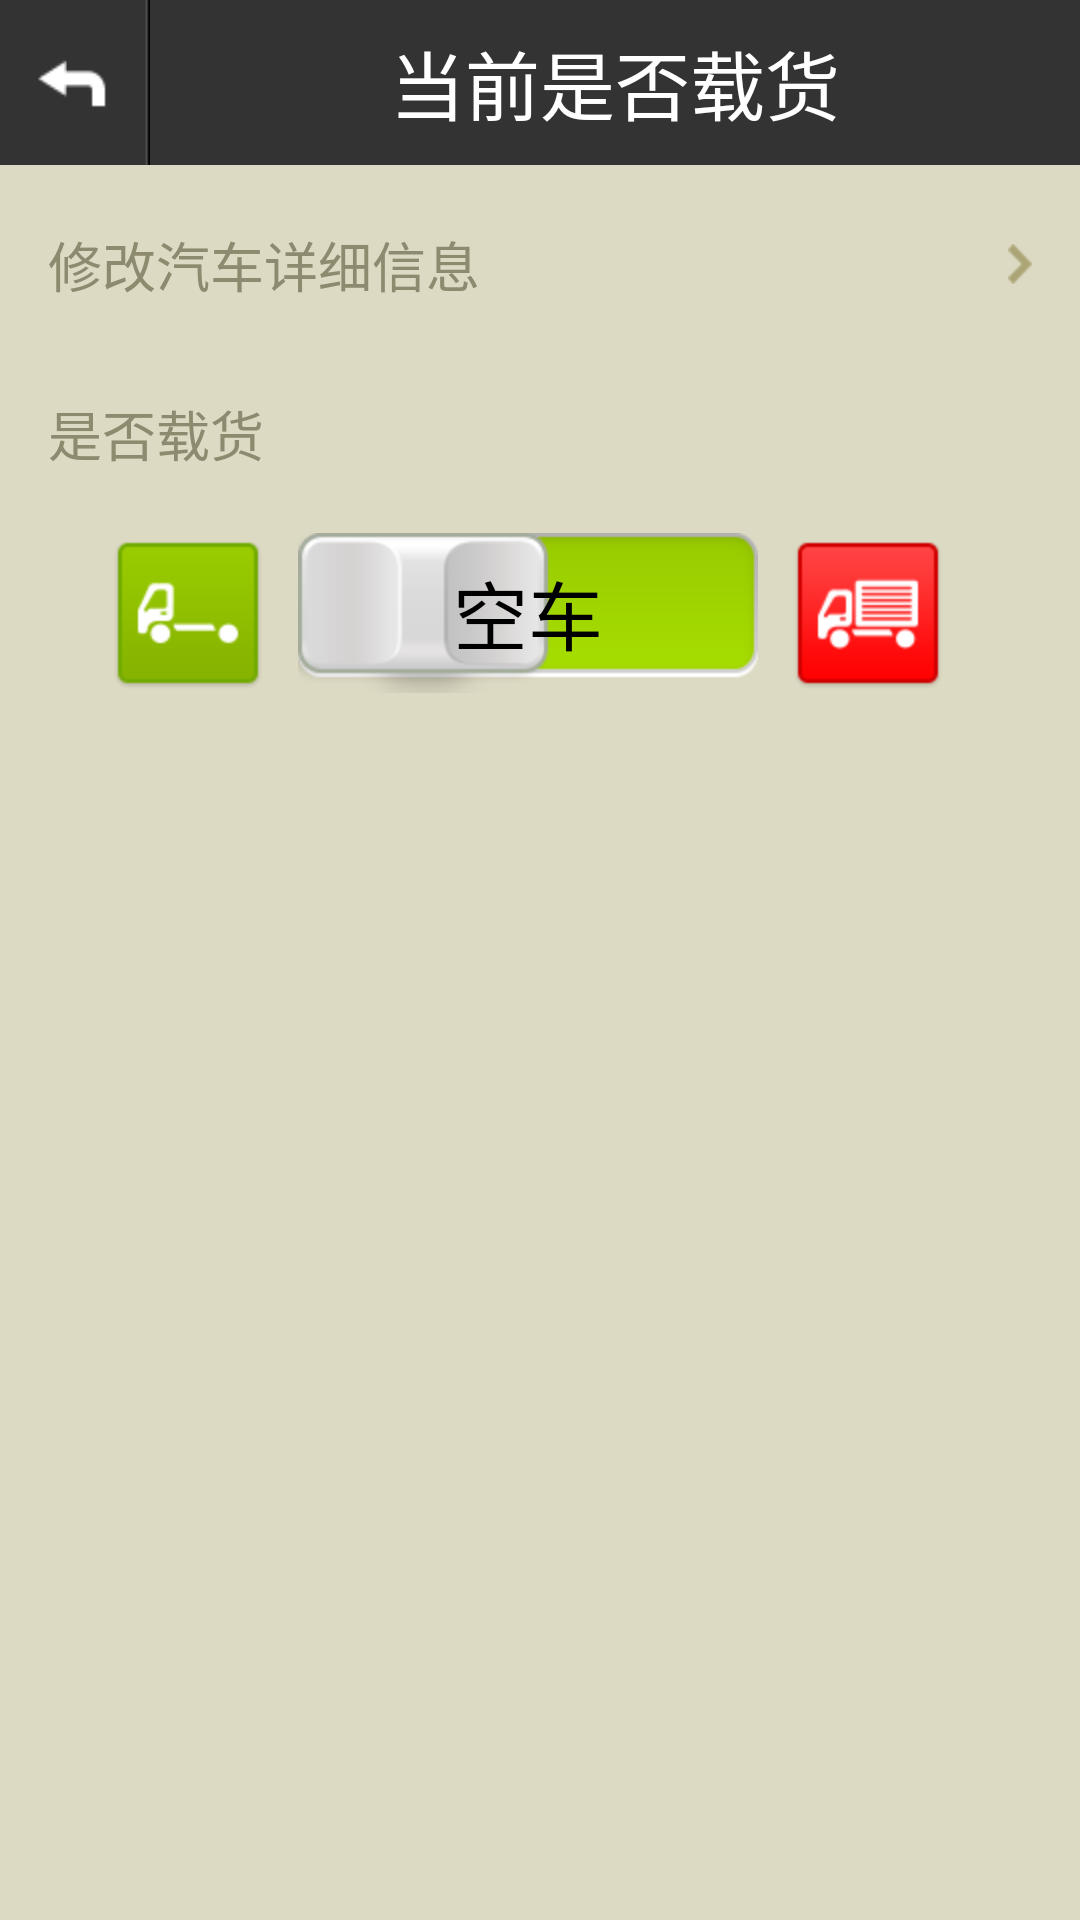

Where to tap for icons on this 1080w x 1920h app screen, as point (x, y):
back: point (75, 82)
details: point (1020, 264)
truck empty: point (188, 613)
truck loaded: point (868, 613)
